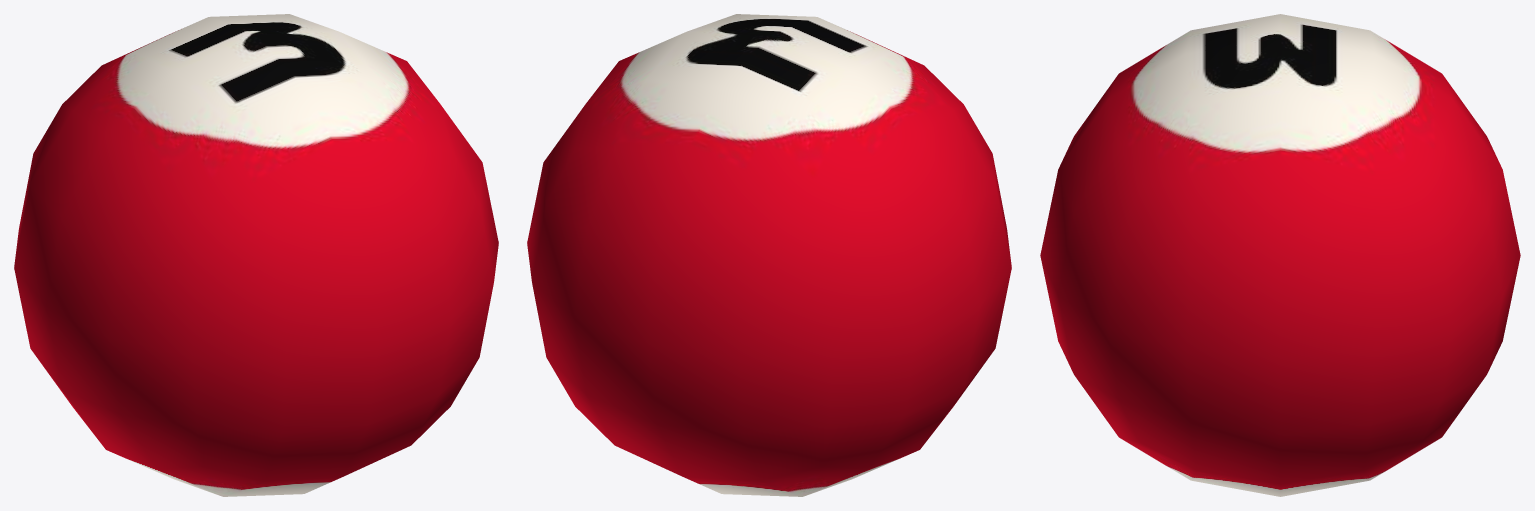
The model's file is ball_03.fbx.
The picture shows the model from 3 angles, left to right: view 1: azimuth 30°, elevation 25°; view 2: azimuth 150°, elevation 25°; view 3: azimuth 270°, elevation 25°; orthographic projection.
Visible parts, largest first — view 1: BilliardBall.003; view 2: BilliardBall.003; view 3: BilliardBall.003.
Boxes of the visible parts, bbox=[...] form: BilliardBall.003: bbox=[14, 14, 498, 496]; BilliardBall.003: bbox=[527, 14, 1011, 496]; BilliardBall.003: bbox=[1040, 14, 1520, 496].
Bounding box in the file's own units: 0.0753 × 0.0753 × 0.0753.
